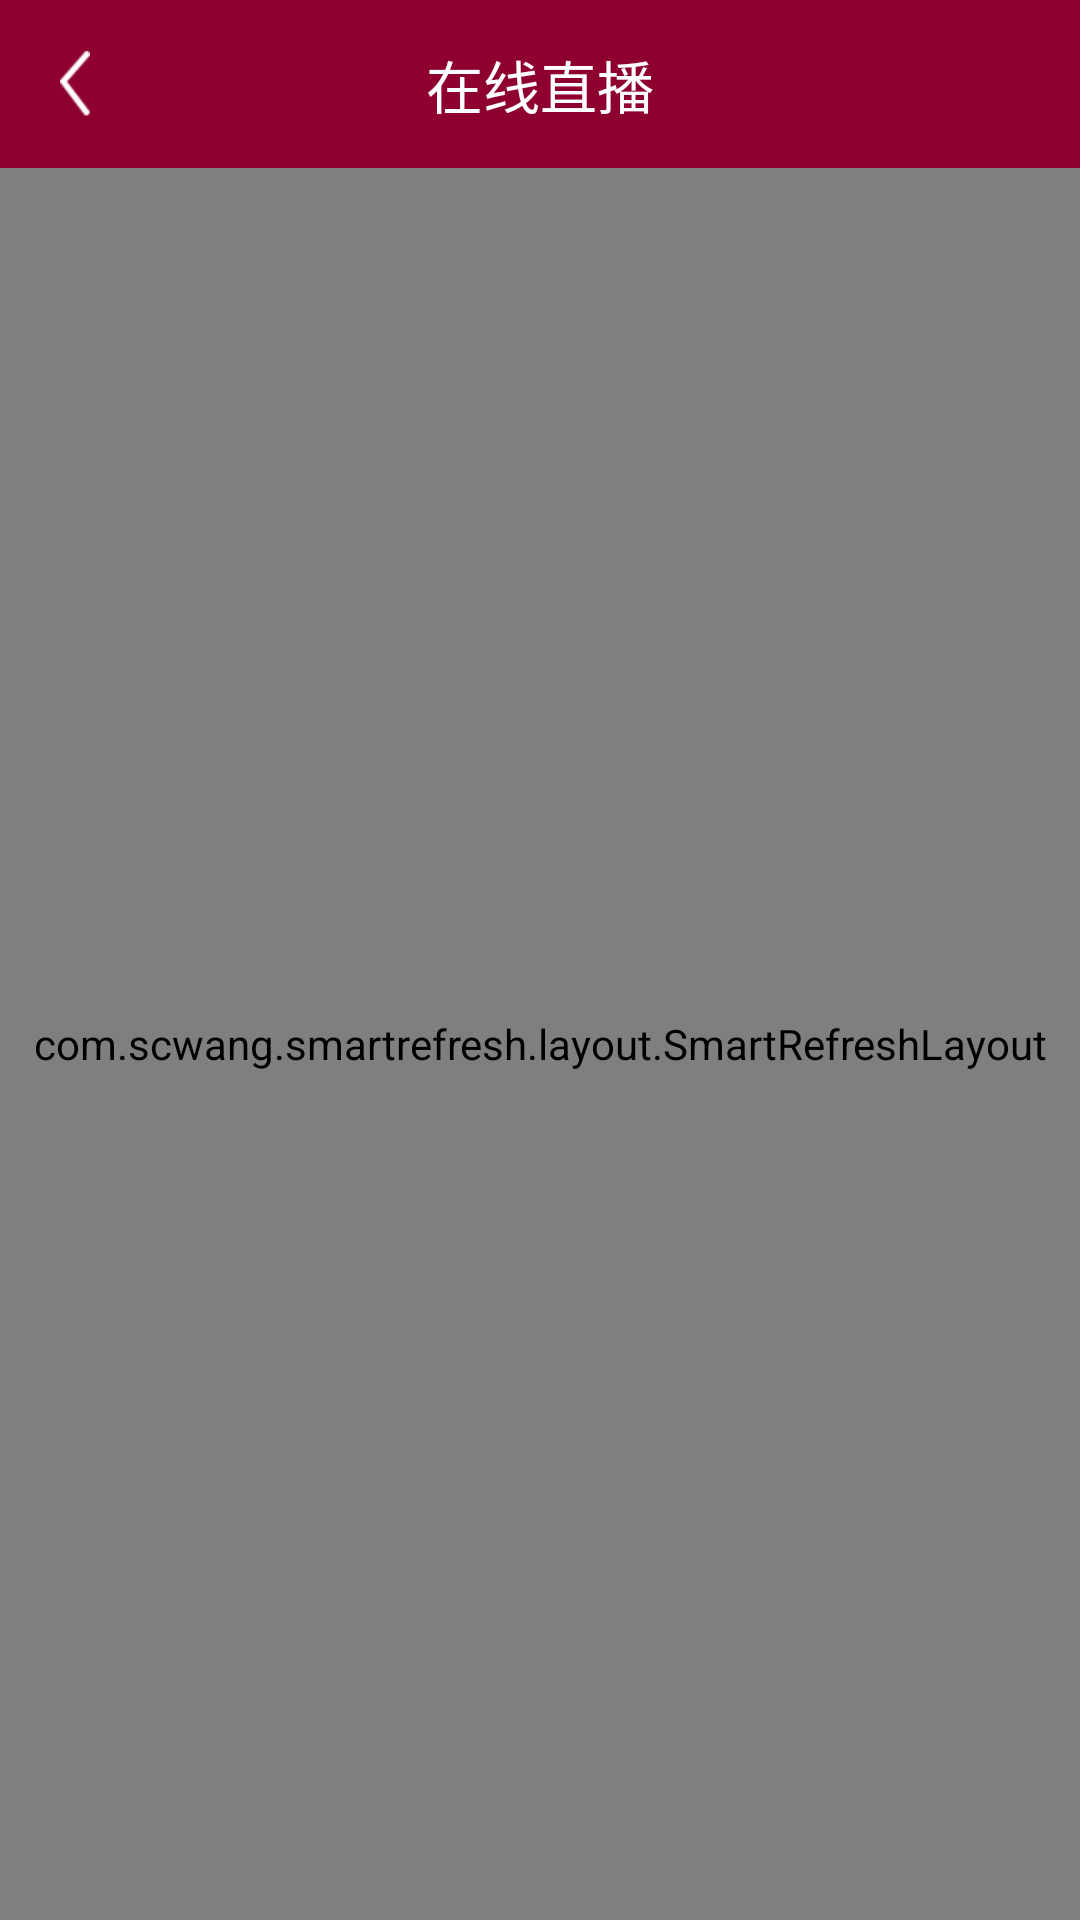

Point at icon controls on the screen. Image size 1080*1920, points as (x=x, y=y).
back: (x=75, y=83)
